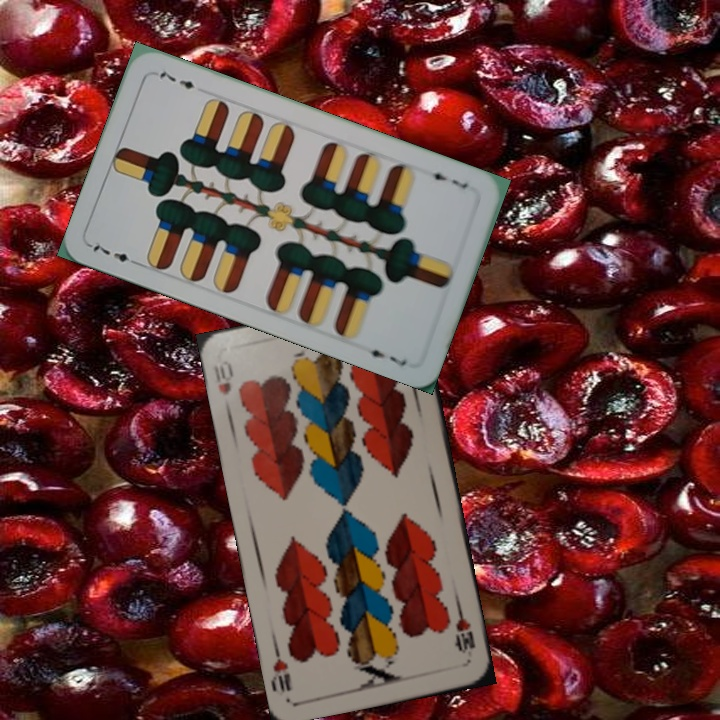E7: (424, 165, 471, 192), (86, 237, 131, 265)
H10: (451, 603, 478, 656), (210, 356, 236, 398)
